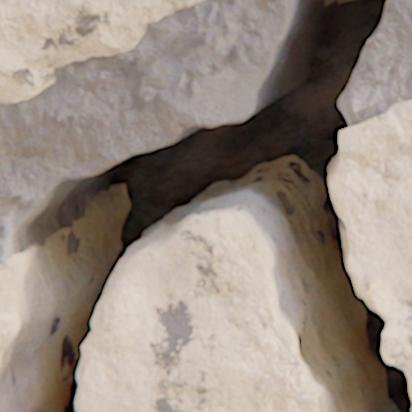brick: (0, 0, 204, 103)
broken_brick: (78, 210, 319, 411), (328, 100, 411, 397), (0, 256, 21, 366)
crack: (0, 0, 411, 411)
